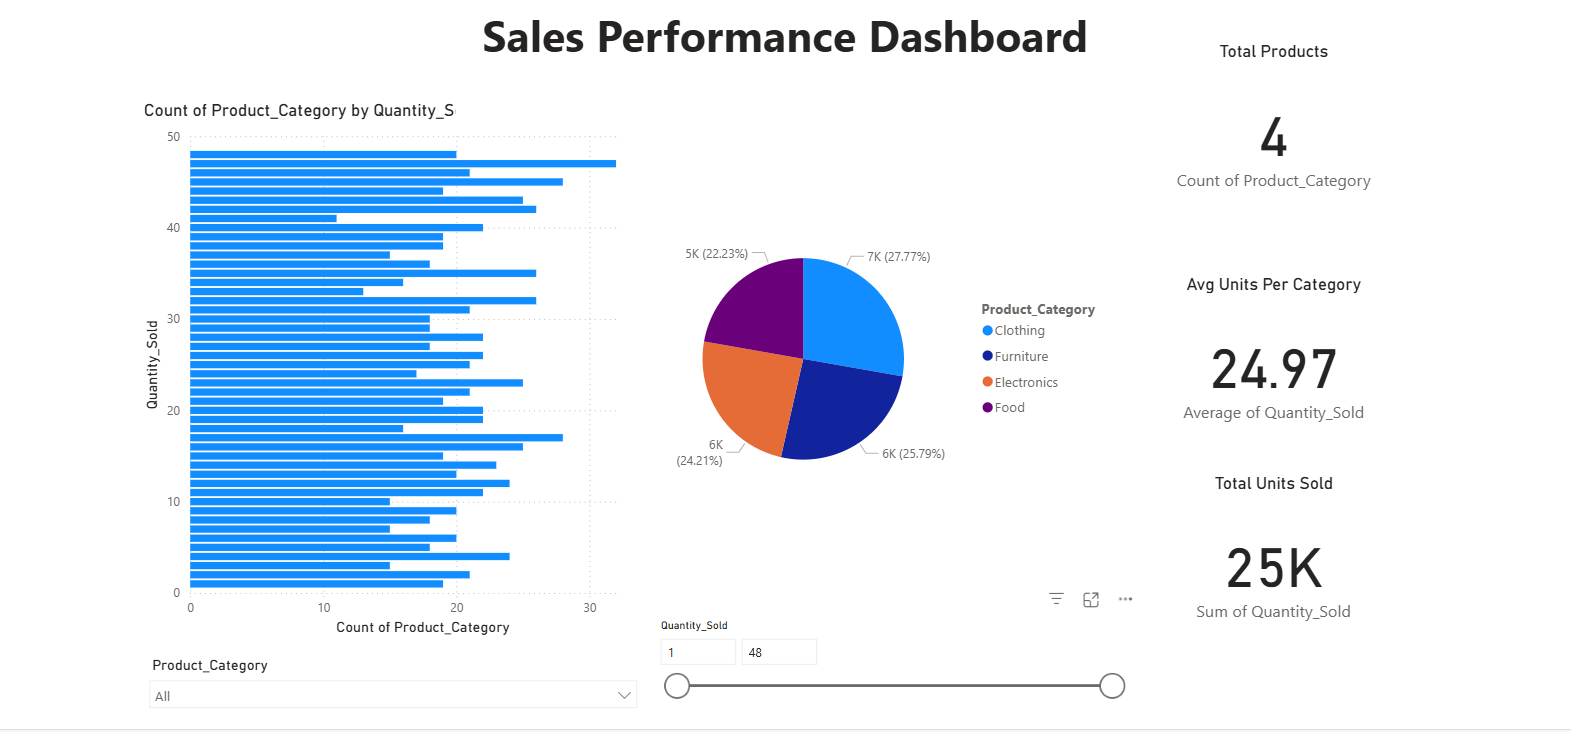

What the dashboard file says about the page in this screenshot:
{"tool":"powerbi","page":{"name":"Retail Sales Dashboard","canvas":[1280,720],"ordinal":0},"visuals":[{"type":"barChart","fields":{"Y":["CountNonNull(sales_data.Product_Category)"],"Category":["sales_data.Quantity_Sold"]},"box":[0,98.8,522.8,533.8],"z":0},{"type":"pieChart","title":"Sales by Category","fields":{"Category":["sales_data.Product_Category"],"Y":["Sum(sales_data.Quantity_Sold)"]},"box":[474.8,98.8,489.9,492.6],"z":1000},{"type":"card","title":"Total Units Sold","fields":{"Values":["Sum(sales_data.Quantity_Sold)"]},"box":[961.9,466.6,318.4,177],"z":2000},{"type":"card","title":"Total Products","fields":{"Values":["Count(sales_data.Product_Category)"]},"box":[961.9,41.2,318.4,177],"z":3000},{"type":"card","title":"Avg Units Per Category","fields":{"Values":["Avg(sales_data.Quantity_Sold)"]},"box":[961.9,270.3,318.4,177],"z":4000},{"type":"slicer","fields":{"Values":["sales_data.Product_Category"]},"box":[0,643.6,502.2,76.8],"z":5000},{"type":"slicer","fields":{"Values":["sales_data.Quantity_Sold"]},"box":[502.2,606.5,488.5,113.9],"z":6000},{"type":"textbox","box":[312.9,0,651.8,120.8],"z":7000}]}

Visuals, with their boxes on the page's 1280x720 design canvas (x1, y1, x2, y2). These are canvas units, not pixel positions in the 1571x732 screenshot, which may show the page scaled, cropped or inside an application window:
barChart - CountNonNull(sales_data.Product_Category) x sales_data.Quantity_Sold: region(0, 99, 523, 633)
"Sales by Category" pieChart: region(475, 99, 965, 591)
"Total Units Sold" card: region(962, 467, 1280, 644)
"Total Products" card: region(962, 41, 1280, 218)
"Avg Units Per Category" card: region(962, 270, 1280, 447)
slicer - sales_data.Product_Category: region(0, 644, 502, 720)
slicer - sales_data.Quantity_Sold: region(502, 606, 991, 720)
textbox: region(313, 0, 965, 121)
